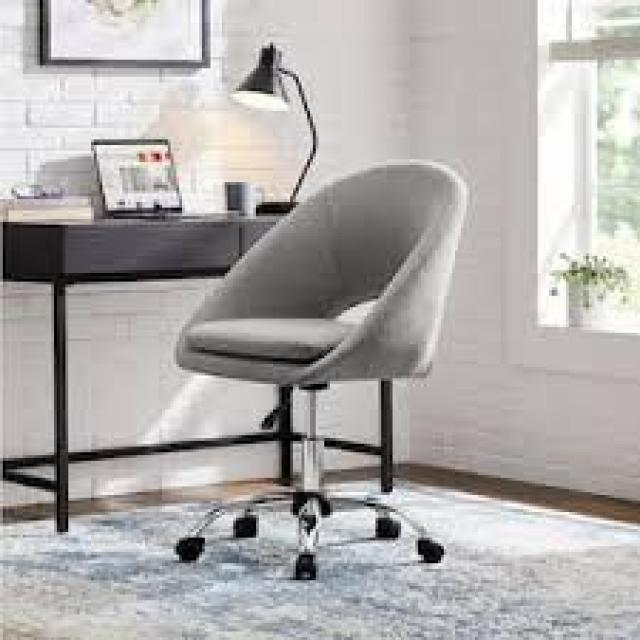chair: (94, 116, 521, 640)
